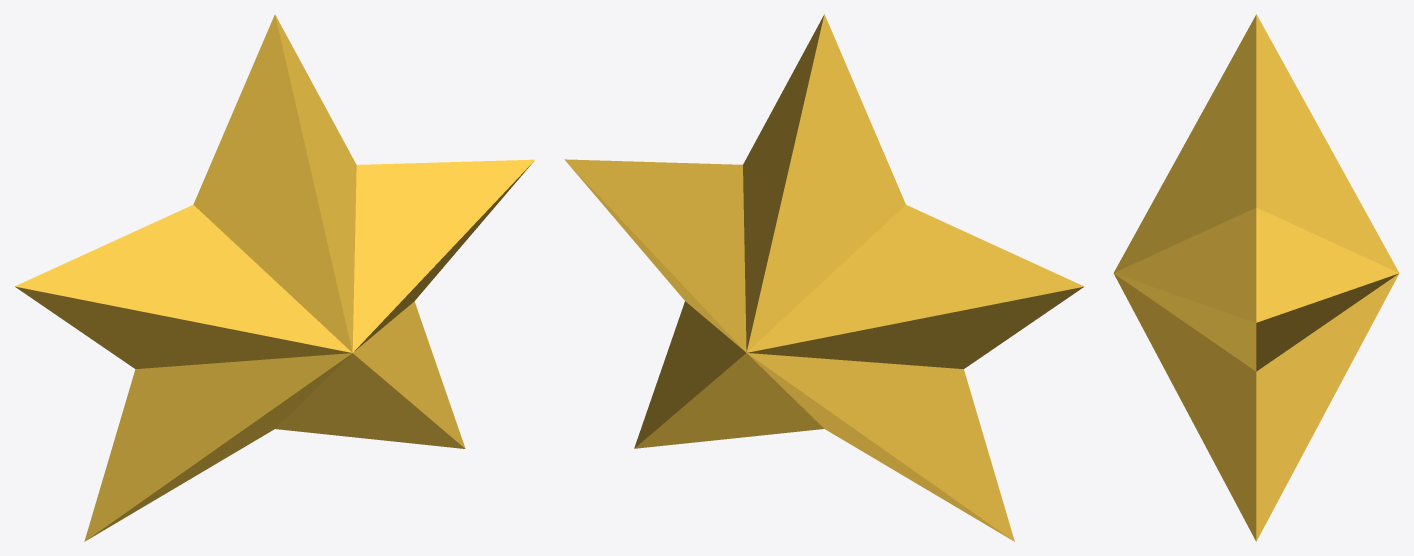
The model's file is Star.glb.
The picture shows the model from 3 angles, left to right: view 1: azimuth 30°, elevation 25°; view 2: azimuth 150°, elevation 25°; view 3: azimuth 270°, elevation 25°; orthographic projection. The views are drawn at different scales.
Visible parts, largest first — view 1: Star; view 2: Star; view 3: Star.
Part boxes in pixels (x1,y1,x2,y2): Star: [15, 14, 534, 541]; Star: [564, 14, 1084, 541]; Star: [1113, 14, 1399, 541].
Size of the model in its own units: 0.7676 by 0.6783 by 0.3973.
Materials: 1 (1 with a texture image).
